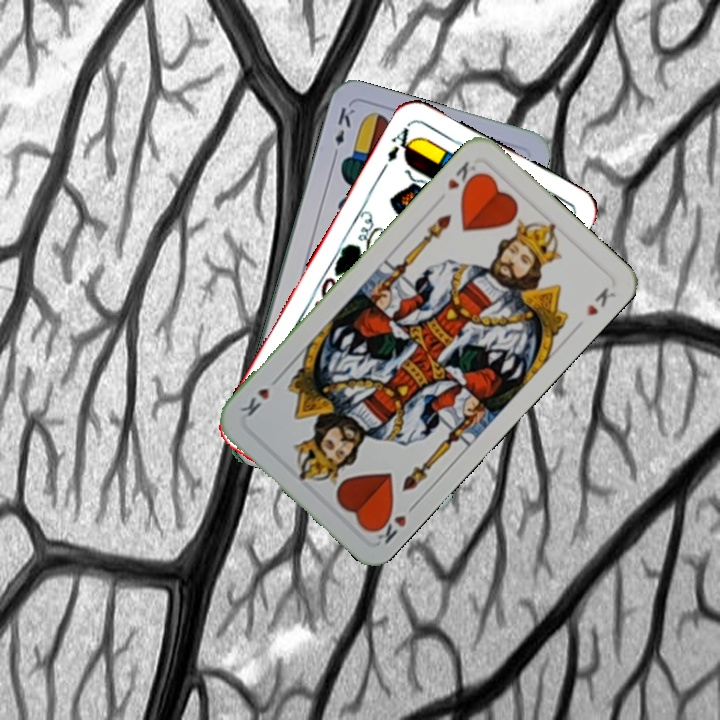EA: (383, 118, 420, 165)
EK: (329, 103, 358, 161)
HK: (367, 498, 420, 546), (443, 157, 484, 196)
